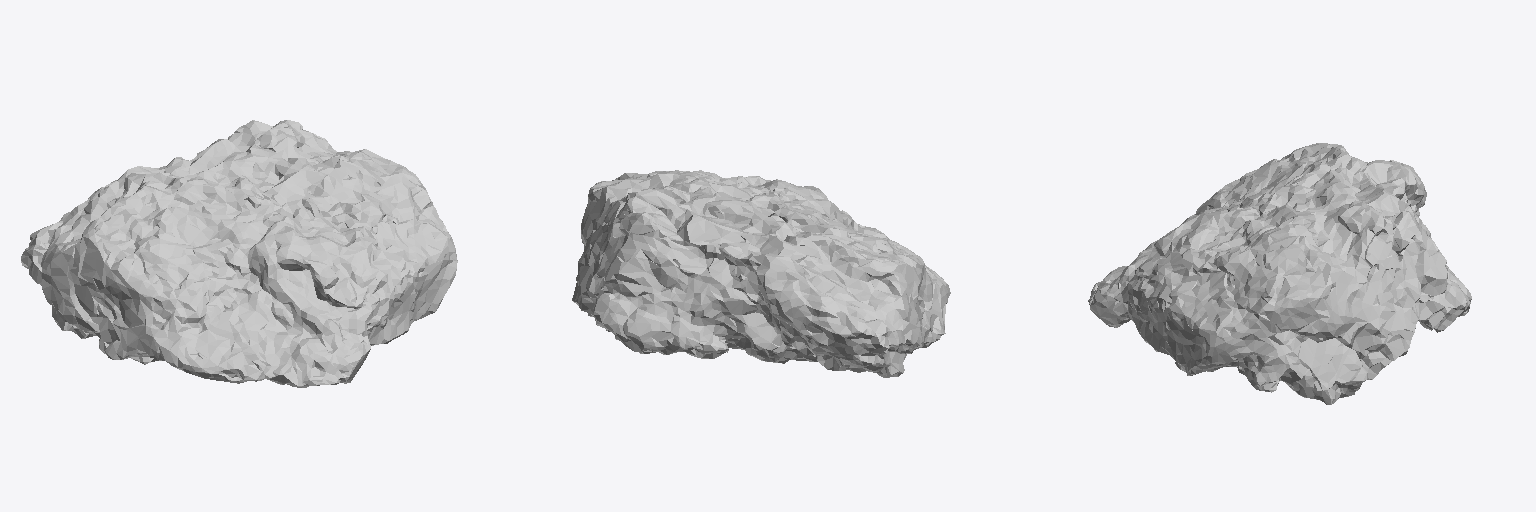
The model's file is test_rock.obj.
The picture shows the model from 3 angles: view 1: azimuth 30°, elevation 25°; view 2: azimuth 150°, elevation 25°; view 3: azimuth 270°, elevation 25°; orthographic projection.
Visible parts, largest first — view 1: rock_16_low_rock_16.003; view 2: rock_16_low_rock_16.003; view 3: rock_16_low_rock_16.003.
Part boxes in pixels (x1,y1,x2,y2): rock_16_low_rock_16.003: (21, 120, 457, 387); rock_16_low_rock_16.003: (572, 170, 950, 377); rock_16_low_rock_16.003: (1088, 143, 1471, 404).
Bounding box in the file's own units: 0.8404 × 0.3692 × 0.7809.